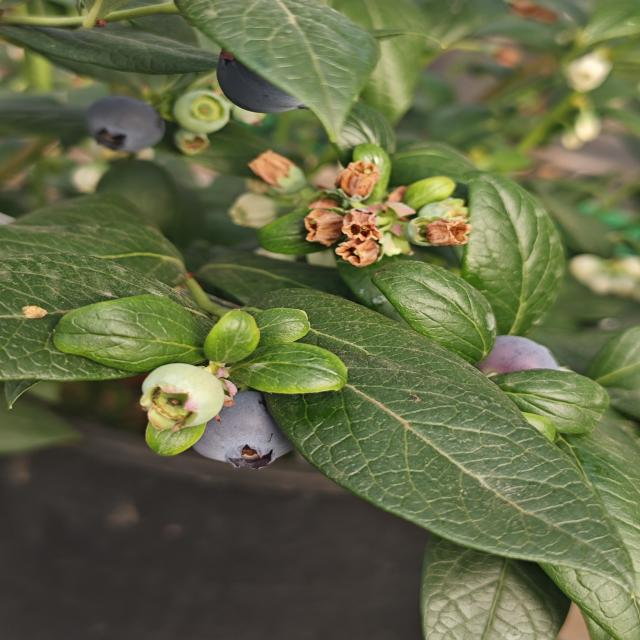ripe: (176, 380, 308, 476), (207, 28, 326, 118), (463, 316, 572, 395), (78, 97, 164, 163)
